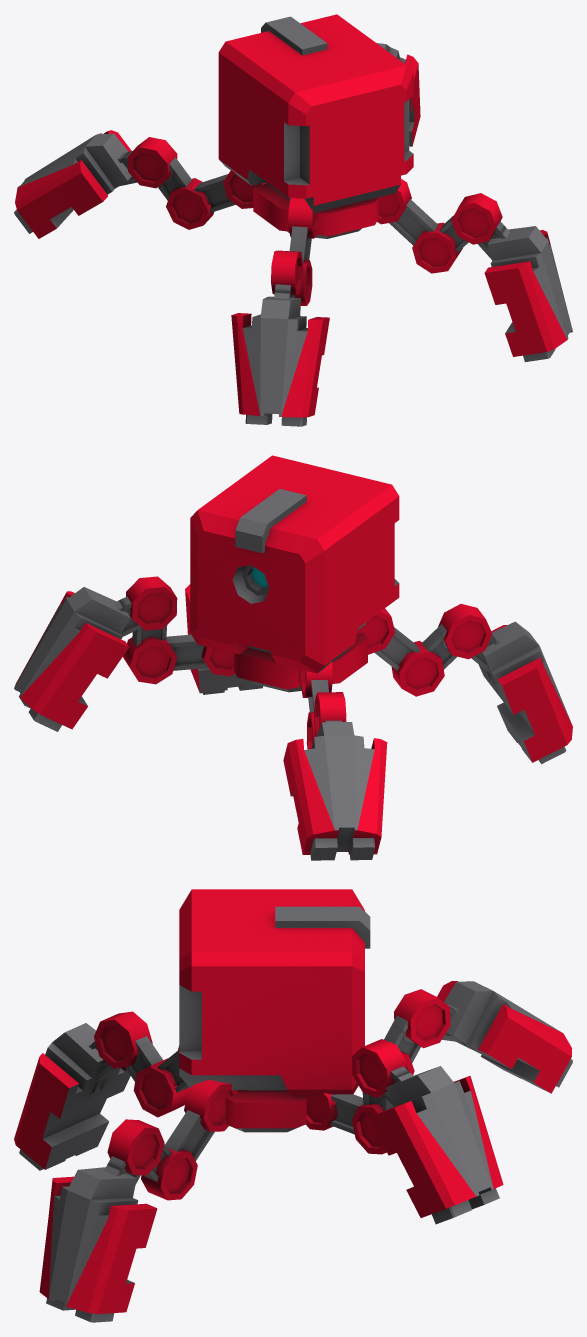
Rendered from Monster1_Move9.obj.
3 renders of one model, top to bottom at view 1: azimuth 30°, elevation 25°; view 2: azimuth 150°, elevation 25°; view 3: azimuth 270°, elevation 25°, orthographic. The views are drawn at different scales.
Visible parts, largest first — view 1: Box006, Object021, Object017, Object025, Object027, Object020, Object028, Object018, Object019, Object026, Object024, Object022 (+1 smaller); view 2: Box006, Object025, Object013, Object021, Object016, Object023, Object024, Object015, Object022, Object014, Object017, Object028 (+1 smaller); view 3: Box006, Object013, Object017, Object021, Object025, Object018, Object020, Object023, Object028, Object024, Object016, Object019 (+3 smaller).
Boxes of the visible parts, x1=… form: Box006: x1=218, y1=14, x2=413, y2=238; Object021: x1=231, y1=296, x2=329, y2=426; Object017: x1=484, y1=226, x2=572, y2=362; Object025: x1=14, y1=130, x2=131, y2=238; Object027: x1=158, y1=157, x2=213, y2=229; Object020: x1=451, y1=193, x2=509, y2=259; Object028: x1=117, y1=137, x2=177, y2=188; Object018: x1=377, y1=179, x2=437, y2=245; Object019: x1=412, y1=215, x2=468, y2=273; Object026: x1=194, y1=170, x2=265, y2=213; Object024: x1=271, y1=250, x2=302, y2=298; Object022: x1=288, y1=198, x2=317, y2=262; Box006: x1=190, y1=455, x2=399, y2=692; Object025: x1=283, y1=722, x2=387, y2=860; Object013: x1=14, y1=587, x2=130, y2=731; Object021: x1=478, y1=621, x2=572, y2=764; Object016: x1=114, y1=576, x2=177, y2=636; Object023: x1=391, y1=624, x2=456, y2=696; Object024: x1=438, y1=604, x2=499, y2=673; Object015: x1=123, y1=624, x2=177, y2=684; Object022: x1=357, y1=608, x2=420, y2=670; Object014: x1=166, y1=634, x2=234, y2=676; Object017: x1=185, y1=584, x2=262, y2=694; Object028: x1=314, y1=692, x2=346, y2=736; Box006: x1=179, y1=889, x2=370, y2=1132; Object013: x1=369, y1=1066, x2=503, y2=1224; Object017: x1=39, y1=1167, x2=157, y2=1322; Object021: x1=14, y1=1023, x2=130, y2=1170; Object025: x1=437, y1=981, x2=572, y2=1093; Object018: x1=165, y1=1079, x2=238, y2=1160; Object020: x1=104, y1=1119, x2=164, y2=1184; Object023: x1=125, y1=1036, x2=189, y2=1117; Object028: x1=394, y1=989, x2=462, y2=1048; Object024: x1=89, y1=1011, x2=152, y2=1081; Object016: x1=352, y1=1039, x2=413, y2=1104; Object019: x1=141, y1=1144, x2=197, y2=1200.
Bounding box in the file's own units: 156 × 112 × 178.
